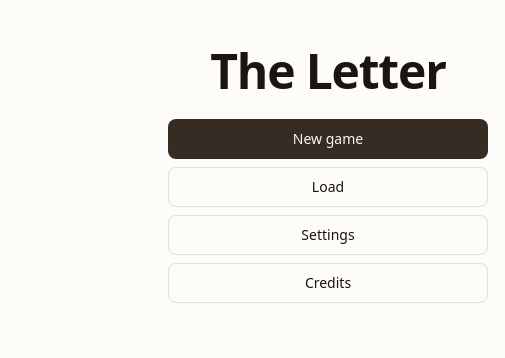
Test: the pages › shows the game’s credits in their groups, with roles, licences and links
This screenshot has width=505, height=358.
Click the button "Credits": (328, 283) [168,263,488,303]
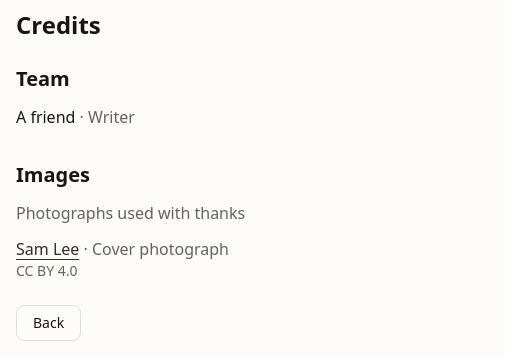
Expected: the text "A friend" is shown, [16,106,75,128]
Expected: the text "Photographs used with thanks" is shown, [16,202,245,224]
Expected: the text "CC BY 4.0" is shown, [16,261,78,280]
